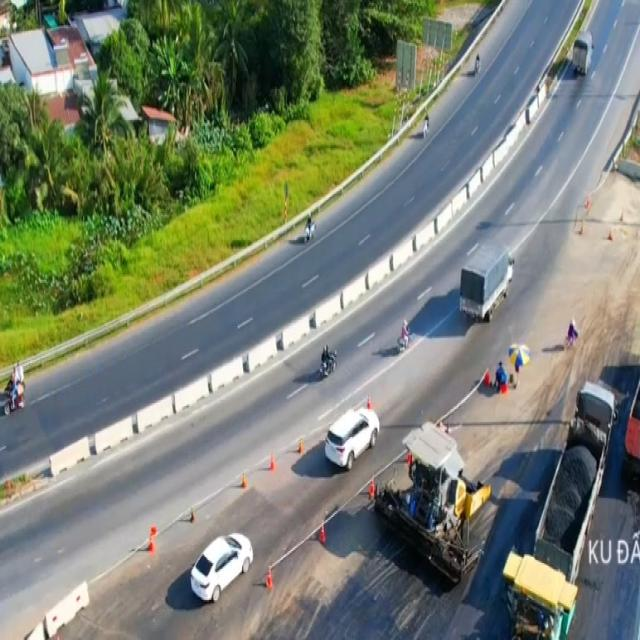car: (188, 529, 258, 605), (326, 402, 381, 474)
motorbike: (321, 346, 336, 380), (398, 322, 413, 351), (303, 214, 317, 242)
truck: (461, 244, 515, 322), (572, 28, 593, 78)
